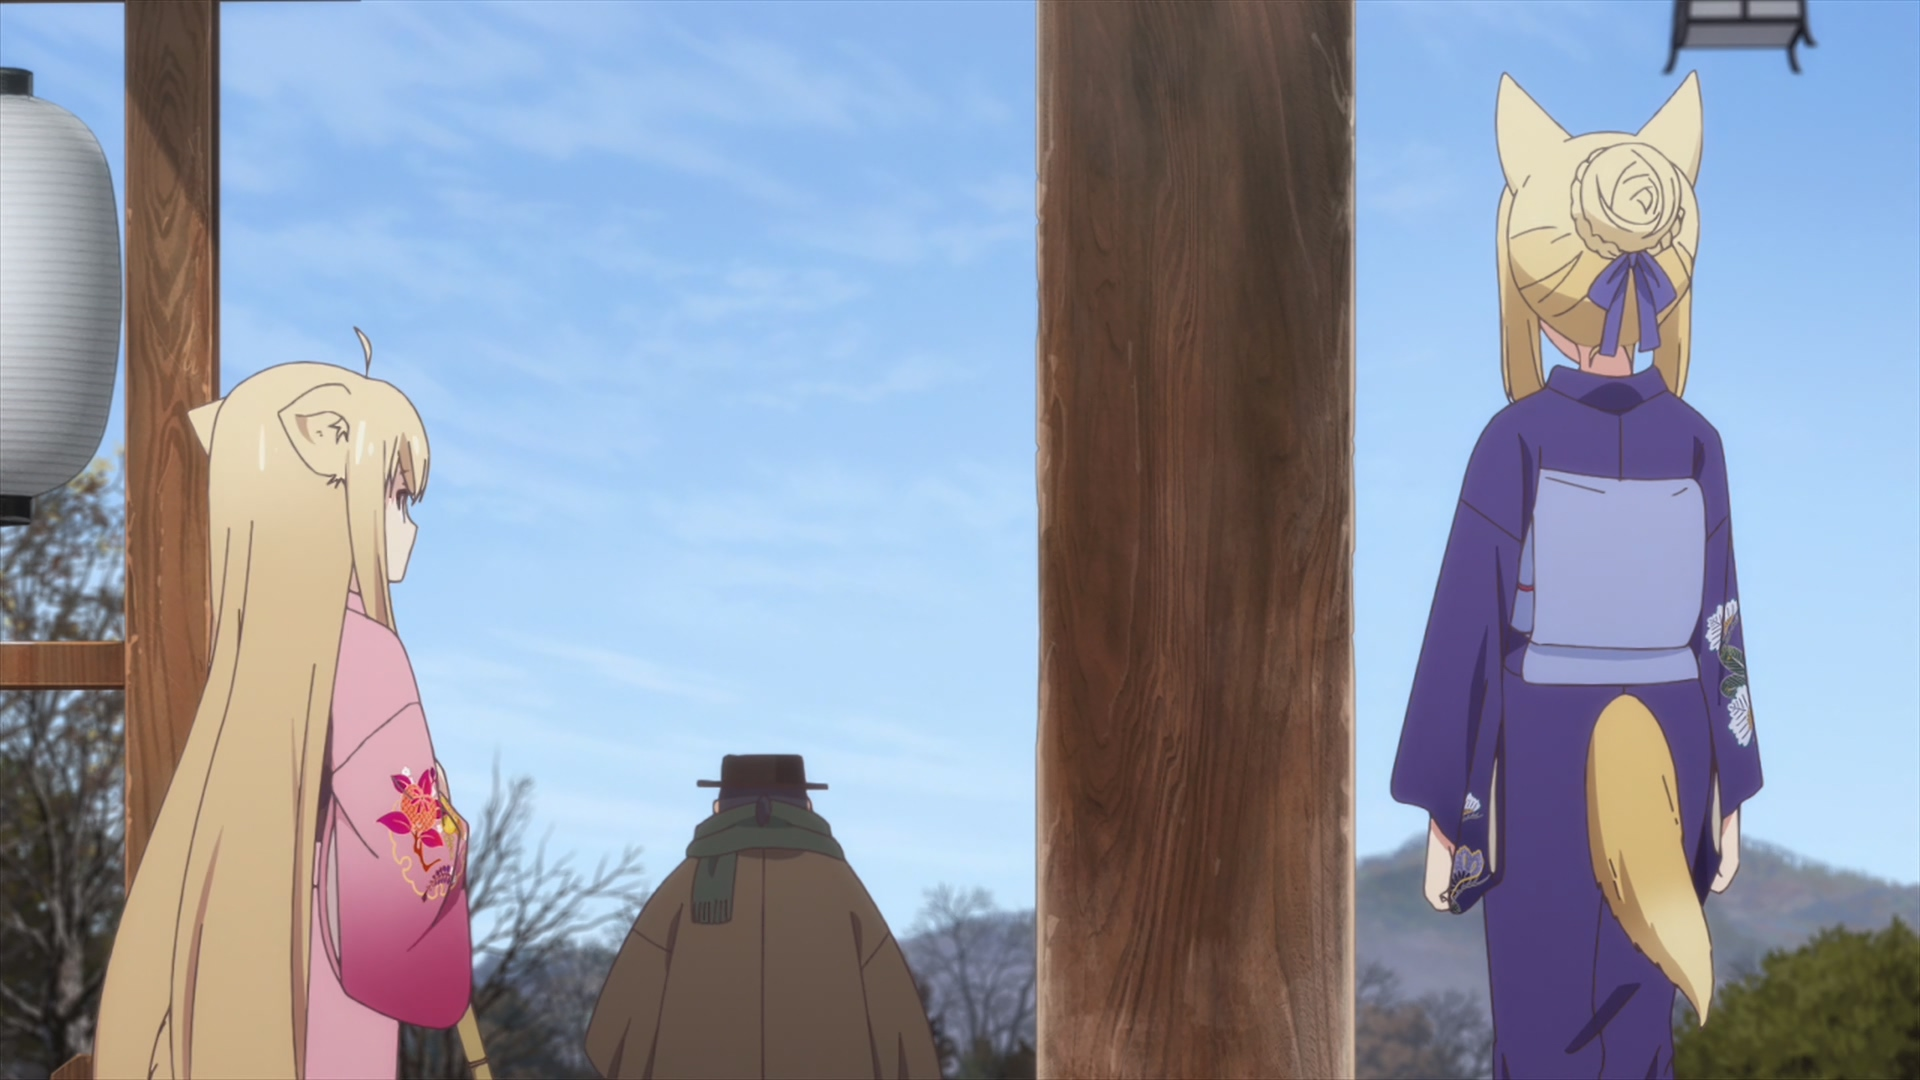其他: (583, 756, 942, 1080)
柚: (94, 327, 473, 1080)
桐: (1390, 69, 1764, 1080)
